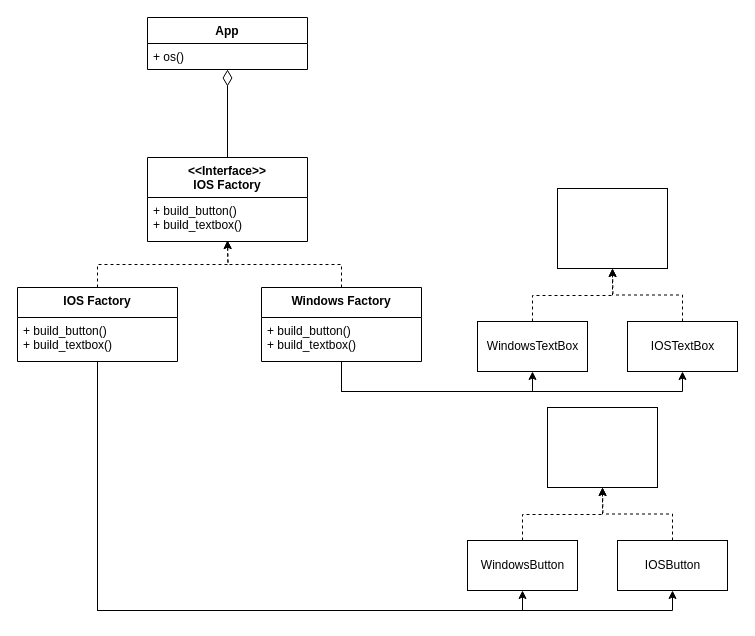
Some shapes in this 755 by 636 pixel diagram are drawn without their labels. Each missing label, with the centre of its shape:
"<<Interface>> Button + render() + onClick()" goes at point (602, 447).
"<<Interface>> TextBox + render() + edit()" goes at point (612, 228).
